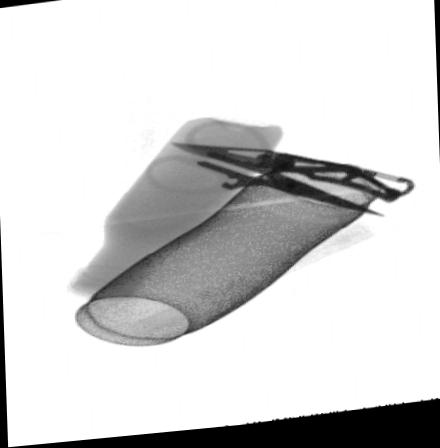Knife: (171, 144, 416, 210)
Scissors: (139, 123, 383, 222)
